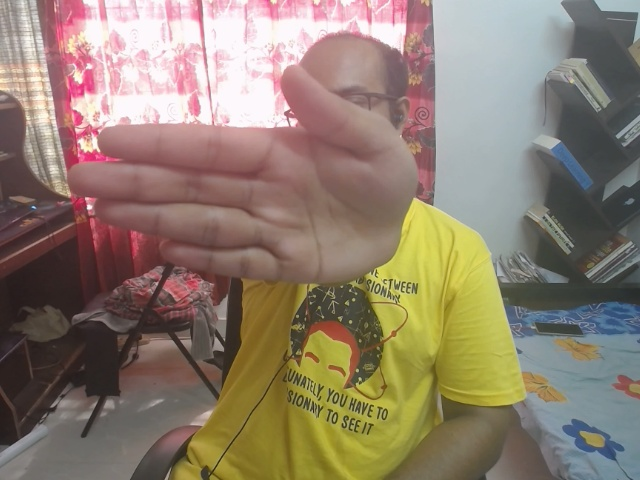south: (65, 45, 440, 309)
